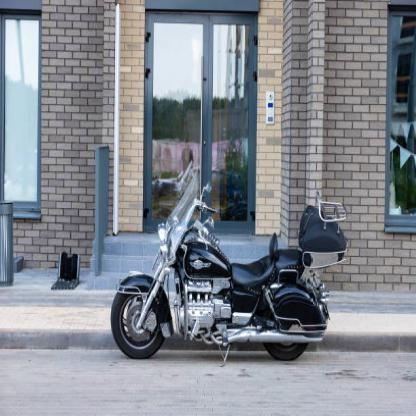Motorcycle: (111, 167, 350, 373)
